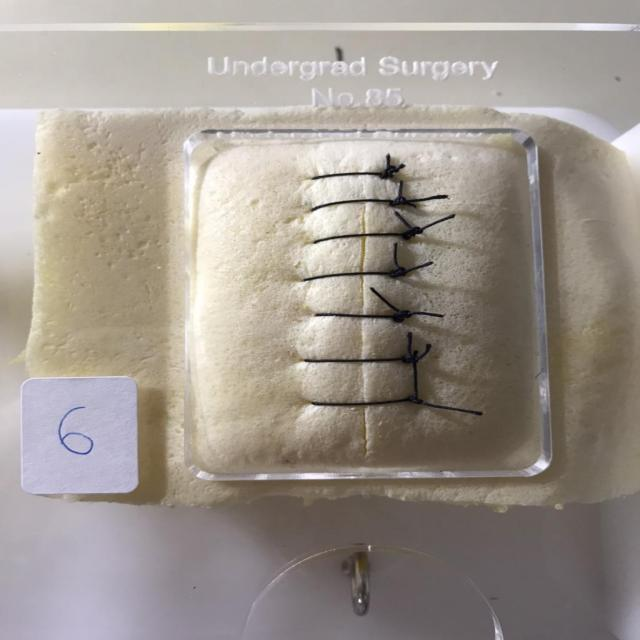knot: (403, 227, 423, 239), (393, 310, 411, 322), (381, 166, 397, 178), (390, 267, 407, 278), (391, 197, 408, 206), (402, 355, 417, 363), (408, 397, 424, 404)
leftover: (412, 398, 485, 416), (367, 286, 407, 318), (408, 212, 457, 235), (392, 209, 417, 235), (395, 259, 436, 274), (400, 194, 451, 203), (412, 342, 431, 361), (401, 310, 446, 318), (391, 240, 401, 275), (412, 348, 418, 402), (385, 162, 405, 175), (405, 330, 412, 361), (396, 179, 404, 203), (385, 150, 391, 175)
stitch: (311, 231, 418, 246), (308, 198, 418, 212), (300, 270, 409, 283), (308, 398, 423, 406), (308, 171, 394, 181), (300, 357, 420, 363), (311, 313, 413, 318)
wound: (358, 161, 371, 456)
